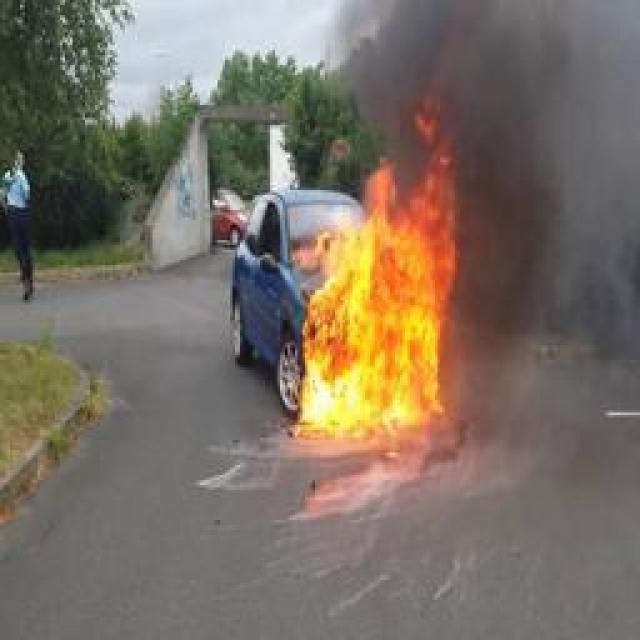Fire: (296, 106, 452, 439)
